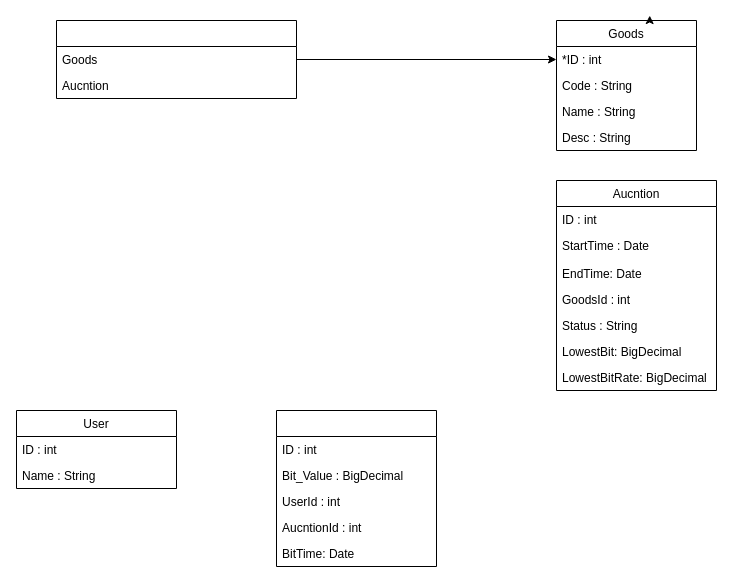
This 733x583 diagram has some shape labels left out. The shapes that lost their labels are listed below. From the top down, each one's box as (x1, y1, x2, y2) in pixels, then its label:
(56, 20, 296, 98): GetAunctionInformationResponse
(276, 410, 436, 566): Player_Bit
